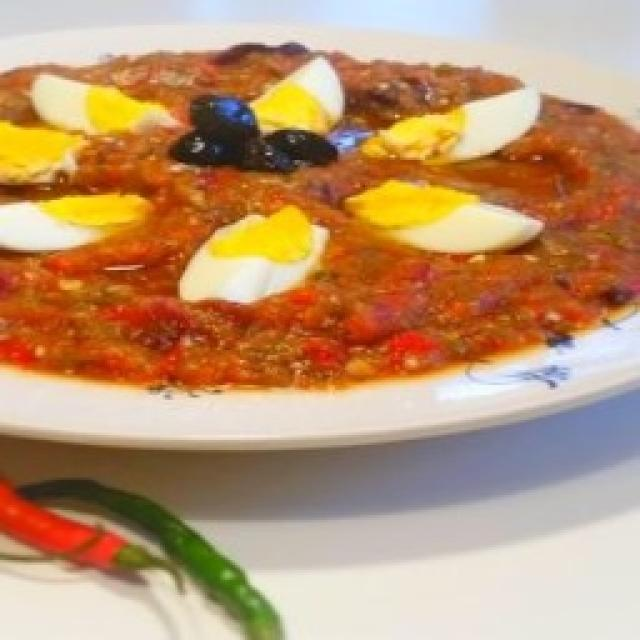Salade mechweya: (0, 42, 640, 448)
